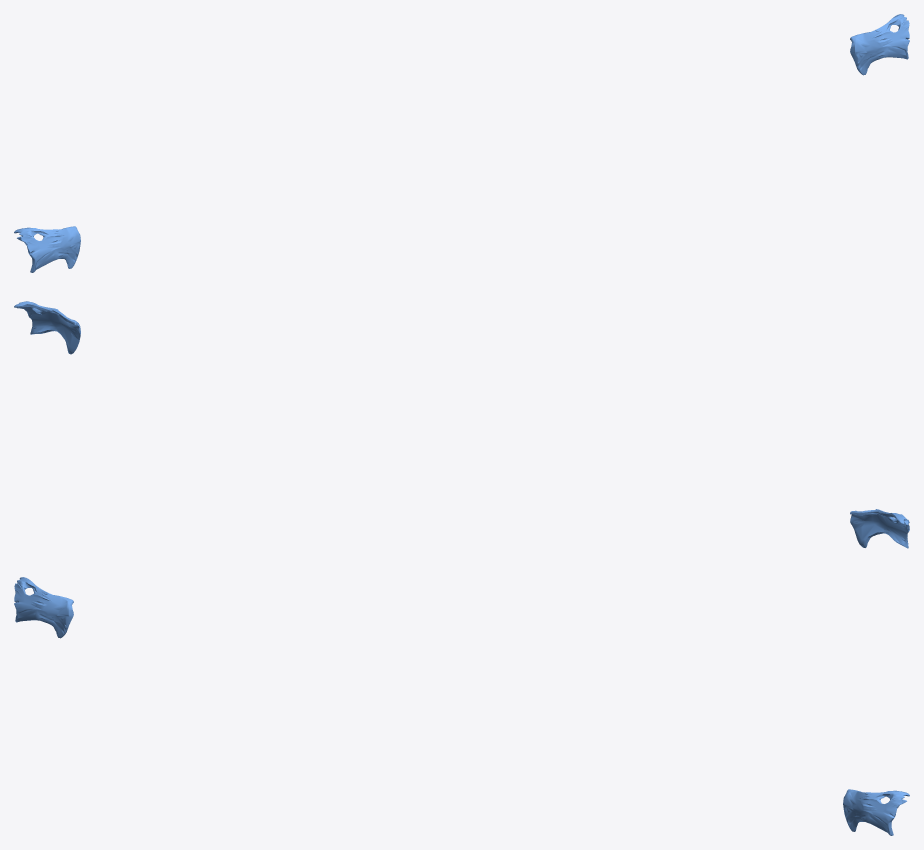
Rendered from supplement-wrist-hand-connective.glb.
The picture shows the model from 3 angles, top to bottom: view 1: azimuth 30°, elevation 25°; view 2: azimuth 150°, elevation 25°; view 3: azimuth 330°, elevation 25°; orthographic projection.
Parts seen in each view (by area): view 1: supplemental:flexor-retinaculum-of-wrist:isa:FJ1471M, supplemental:flexor-retinaculum-of-wrist:isa:FJ1471; view 2: supplemental:flexor-retinaculum-of-wrist:isa:FJ1471, supplemental:flexor-retinaculum-of-wrist:isa:FJ1471M; view 3: supplemental:flexor-retinaculum-of-wrist:isa:FJ1471, supplemental:flexor-retinaculum-of-wrist:isa:FJ1471M.
Boxes of the visible parts, x1,y1,x2,y2 form: supplemental:flexor-retinaculum-of-wrist:isa:FJ1471M: (850, 14, 909, 75); supplemental:flexor-retinaculum-of-wrist:isa:FJ1471: (14, 226, 80, 272); supplemental:flexor-retinaculum-of-wrist:isa:FJ1471: (850, 509, 909, 548); supplemental:flexor-retinaculum-of-wrist:isa:FJ1471M: (14, 301, 80, 354); supplemental:flexor-retinaculum-of-wrist:isa:FJ1471: (14, 577, 73, 638); supplemental:flexor-retinaculum-of-wrist:isa:FJ1471M: (843, 789, 909, 835).
Bounding box in the file's own units: 0.5418 × 0.027 × 0.0139.
